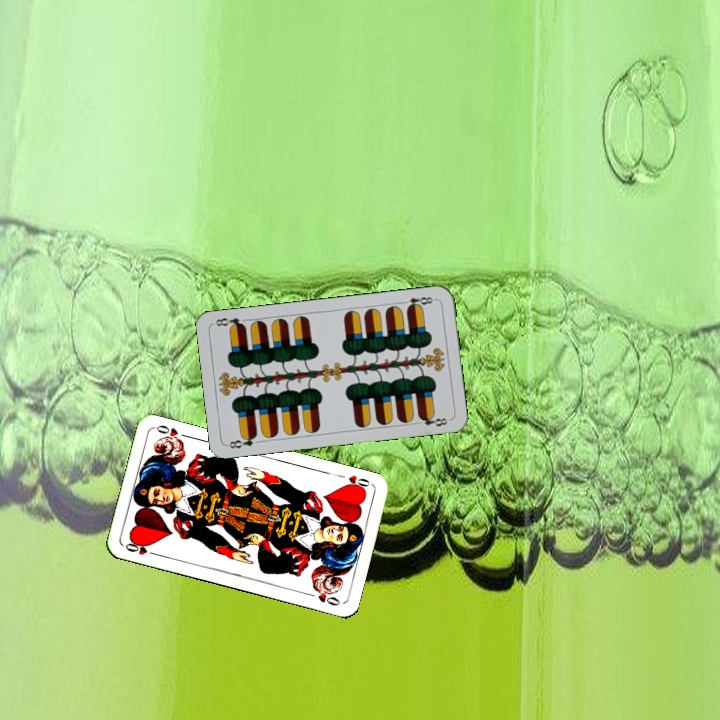E8: (398, 292, 438, 312), (224, 430, 259, 451)
HO: (121, 537, 160, 558), (340, 471, 374, 494)
